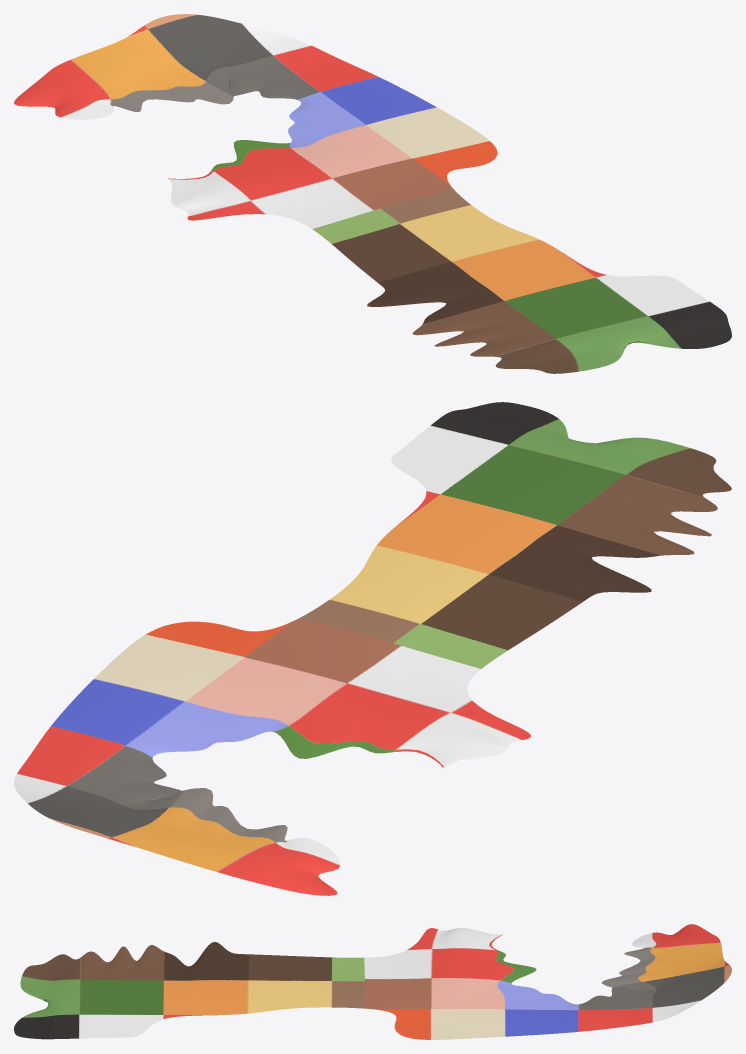
File: lvl1grass_start.fbx
3 views of the same model, one above another, from view 1: azimuth 30°, elevation 25°; view 2: azimuth 150°, elevation 25°; view 3: azimuth 270°, elevation 25° (orthographic). The views are drawn at different scales.
Parts seen in each view (by area): view 1: grass_start; view 2: grass_start; view 3: grass_start.
Boxes of the visible parts, x1=… form: grass_start: x1=14, y1=14, x2=731, y2=373; grass_start: x1=14, y1=402, x2=731, y2=895; grass_start: x1=14, y1=924, x2=731, y2=1039.
Size of the model in its own units: 1858 by 155 by 4641.
